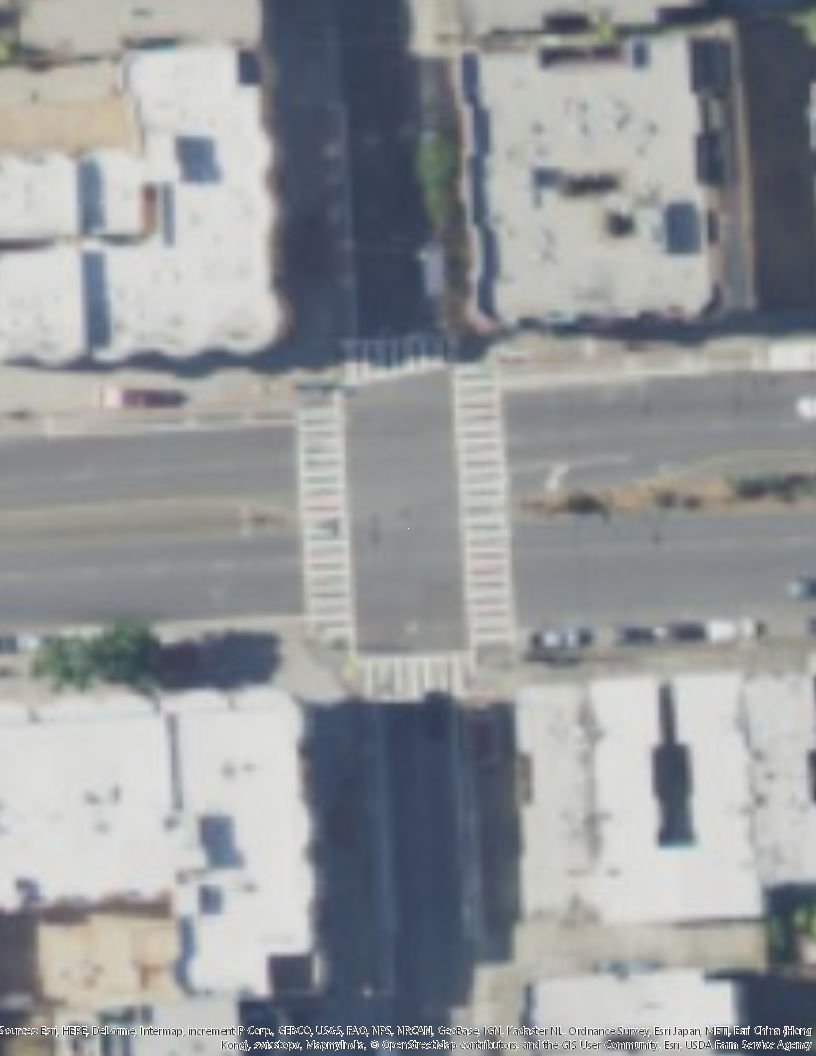zebracross: (447, 369, 521, 647), (289, 379, 361, 640), (338, 331, 452, 381), (363, 650, 486, 696)
